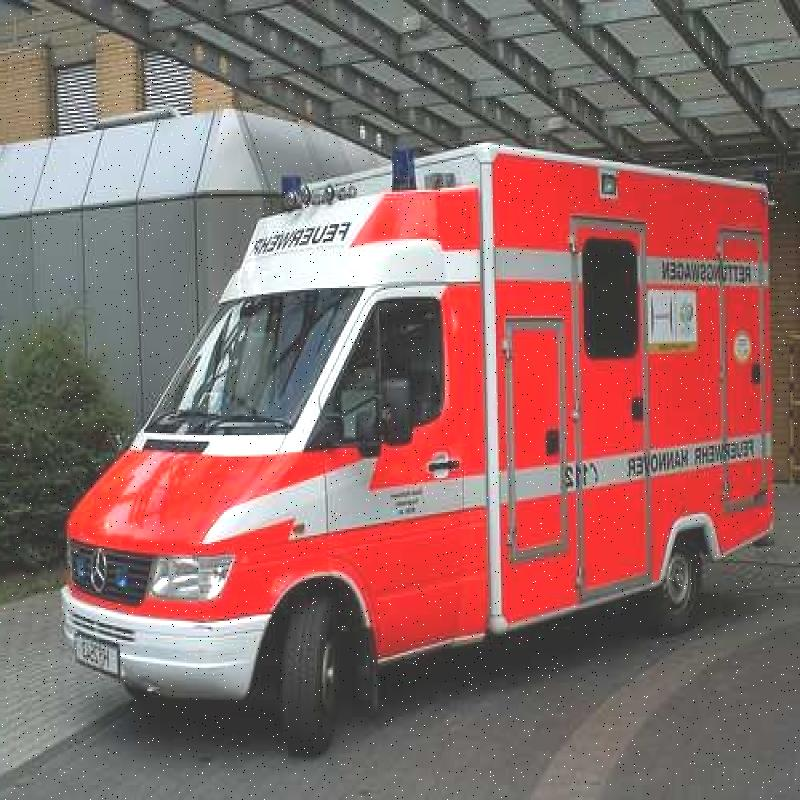AmbulanceSiren: (384, 139, 418, 197), (272, 168, 304, 216)
